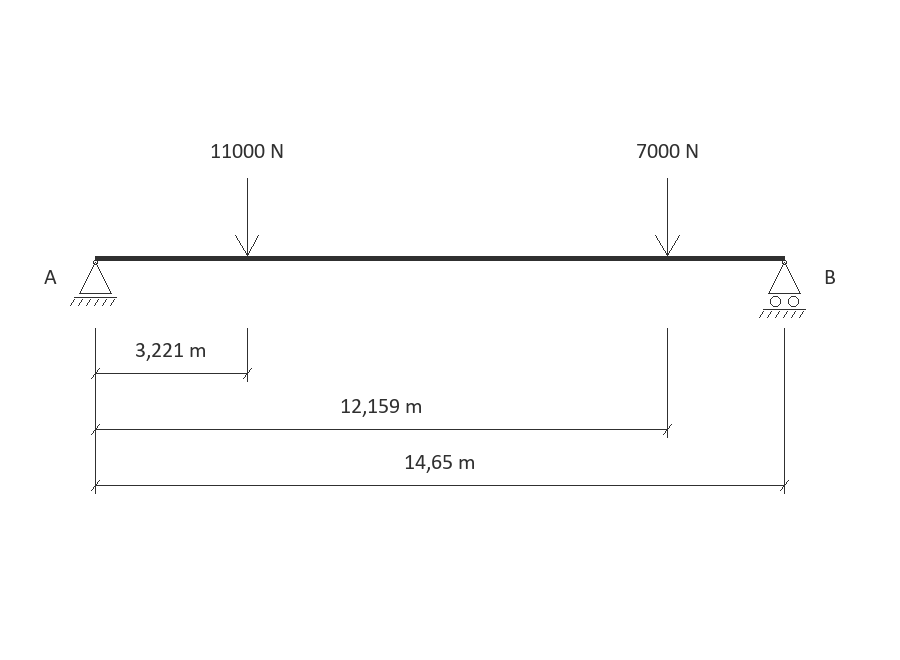pin_support: (70, 260, 117, 306)
point_load: (655, 178, 680, 256), (235, 178, 259, 256)
roller_support: (759, 260, 806, 318)
